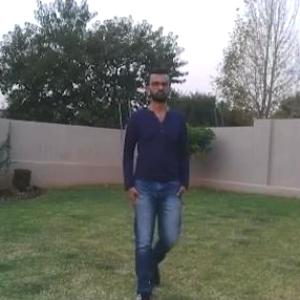follow: (125, 70, 188, 290)
